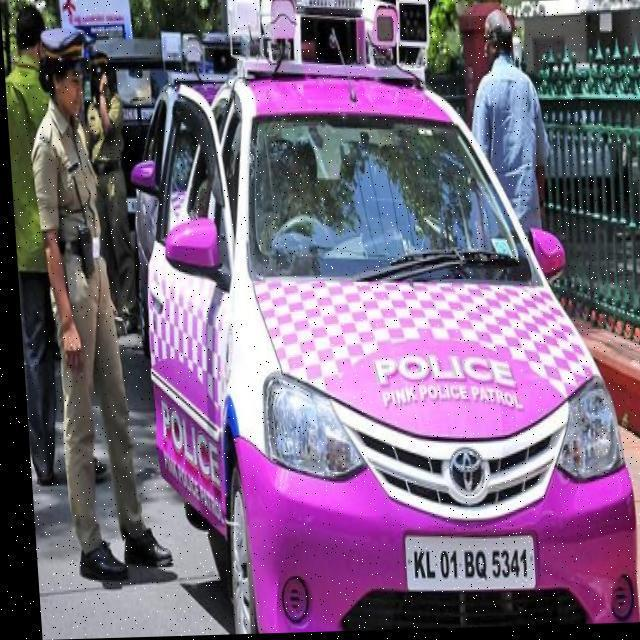Ambulance: (115, 0, 638, 633), (18, 314, 640, 636), (19, 19, 168, 589), (220, 0, 433, 92)
